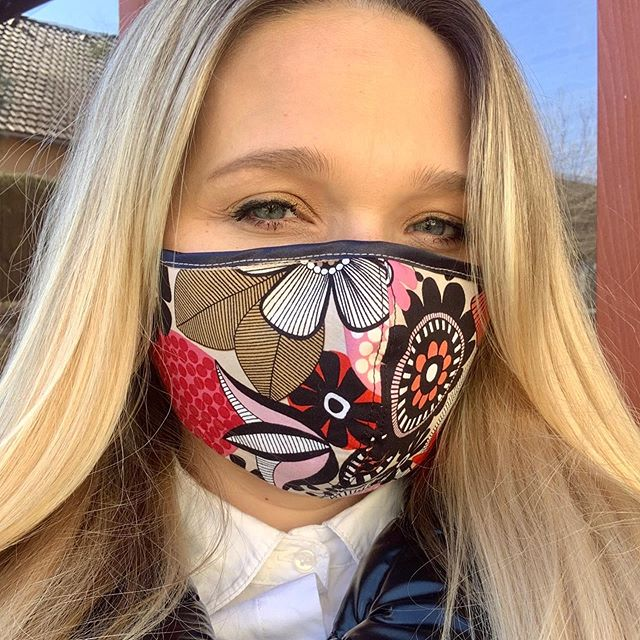homemade: (135, 237, 503, 511)
